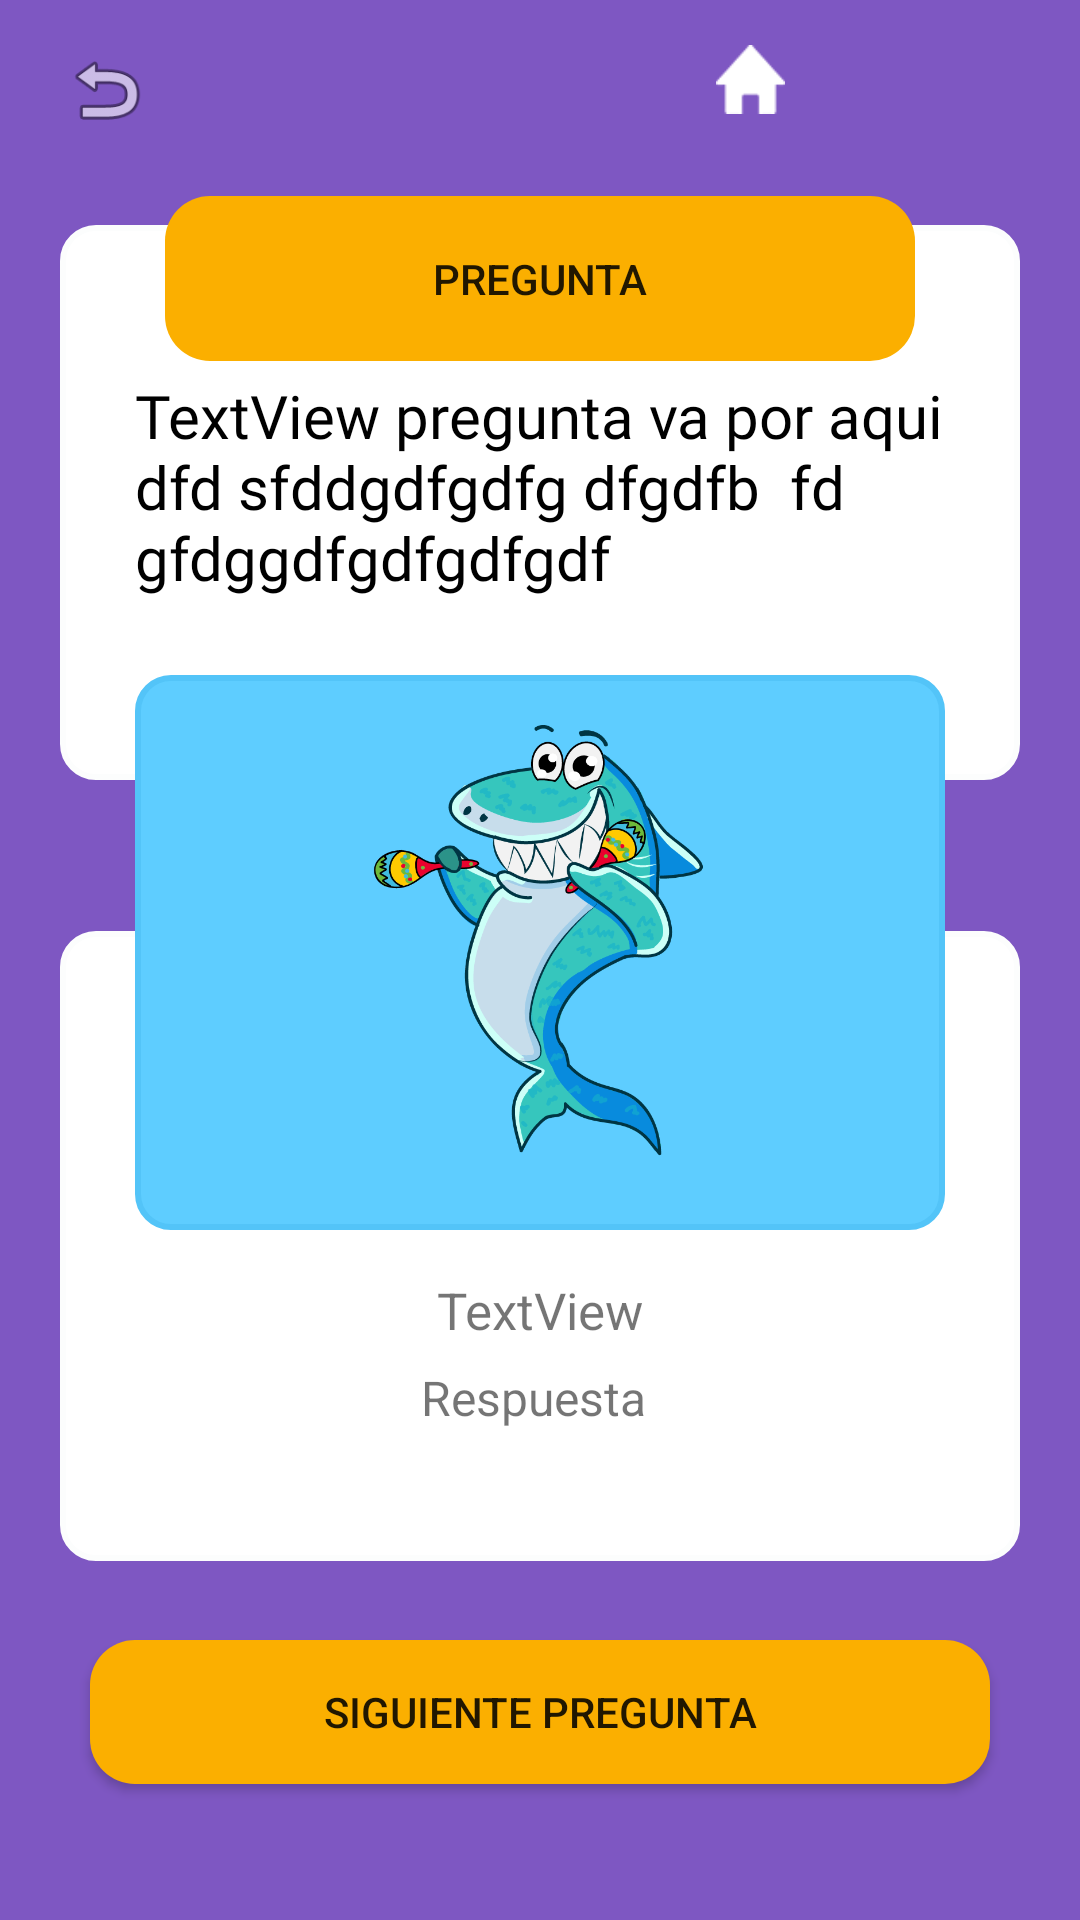

Named icons in this screenshot (1080px x 1920px) and their centers, point (x, y):
home: point (750, 79)
revert: point (107, 90)
